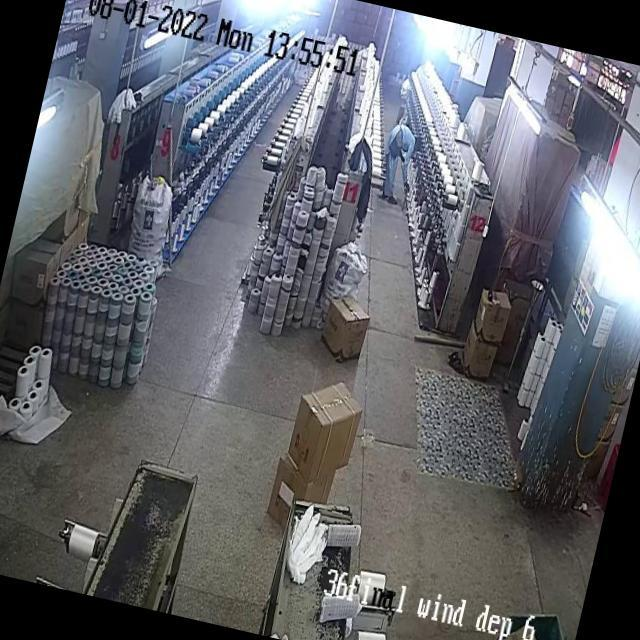person: (374, 119, 426, 215)
